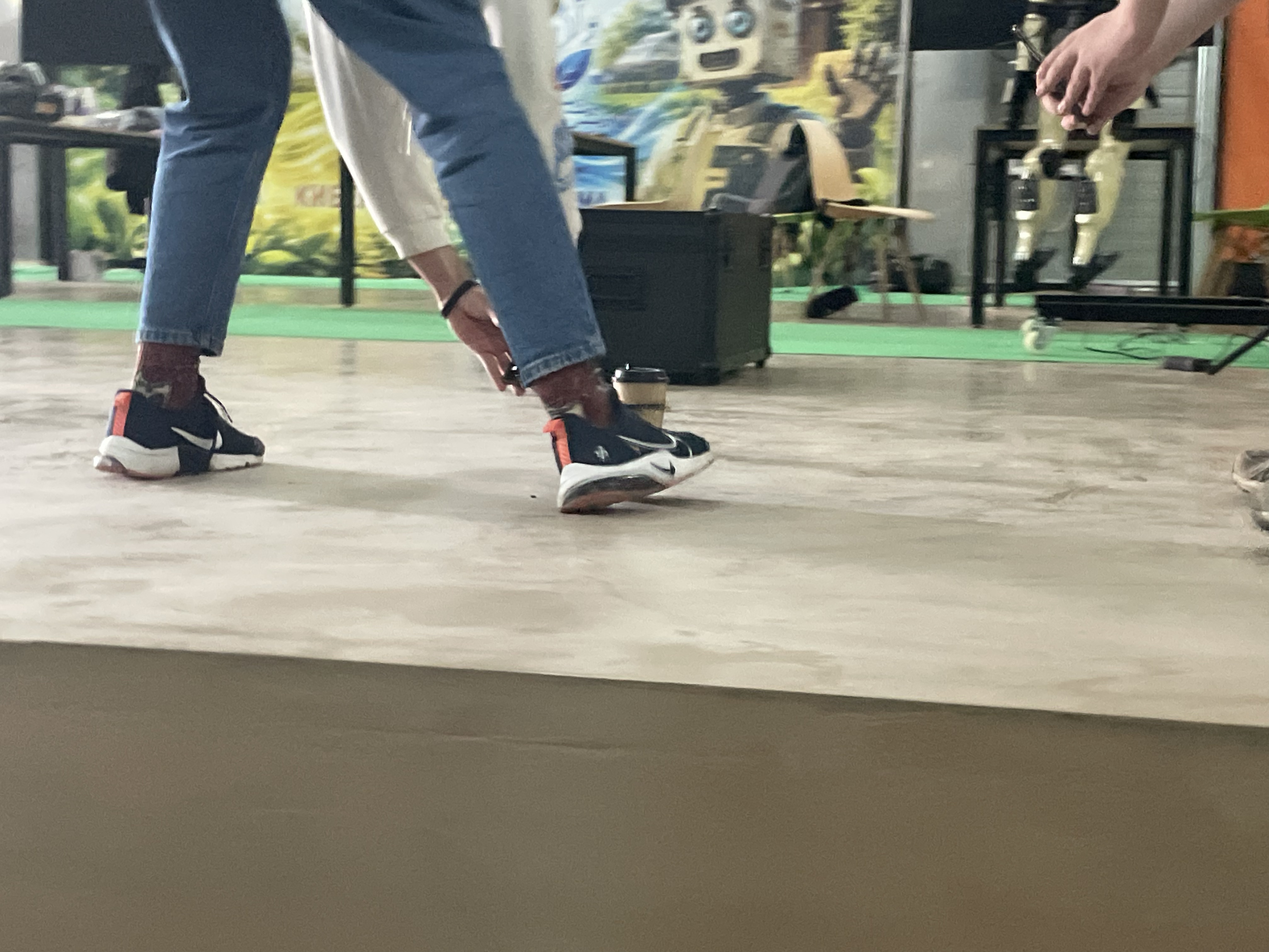cup: (611, 364, 670, 454)
